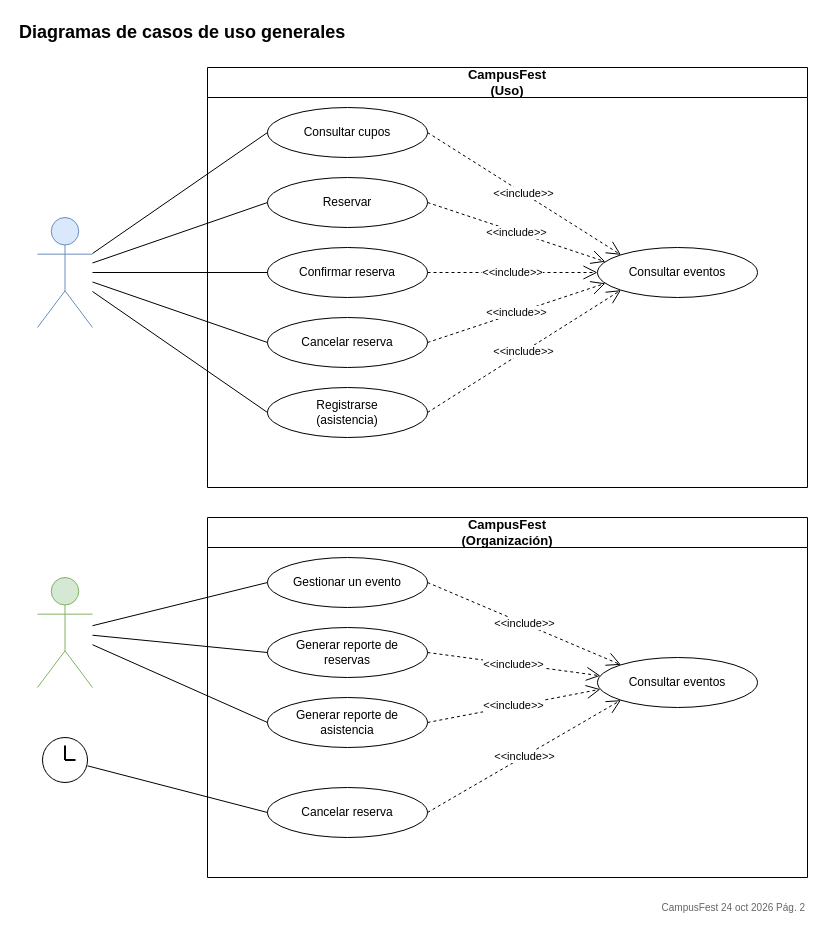
This 825x934 diagram has some shape labels left out. Each missing label, with the centre of its shape:
10 mins de una reserva: the point at 65,759
Estudiante: the point at 64,272
Organizador: the point at 64,632
